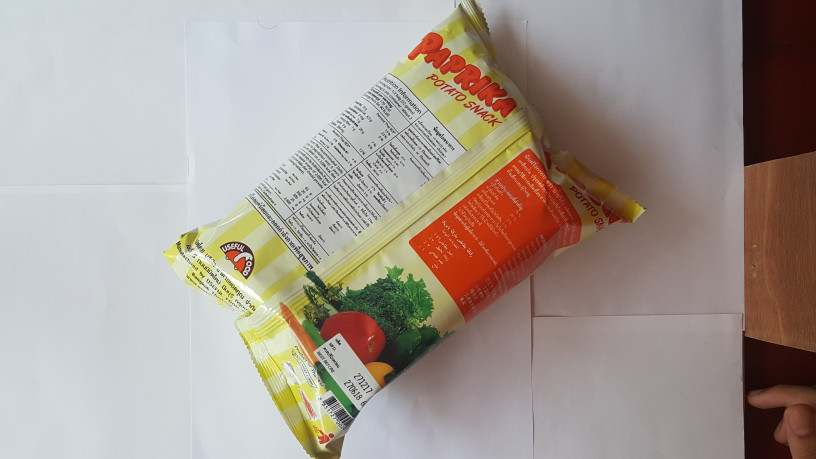paprika: (161, 1, 664, 459)
